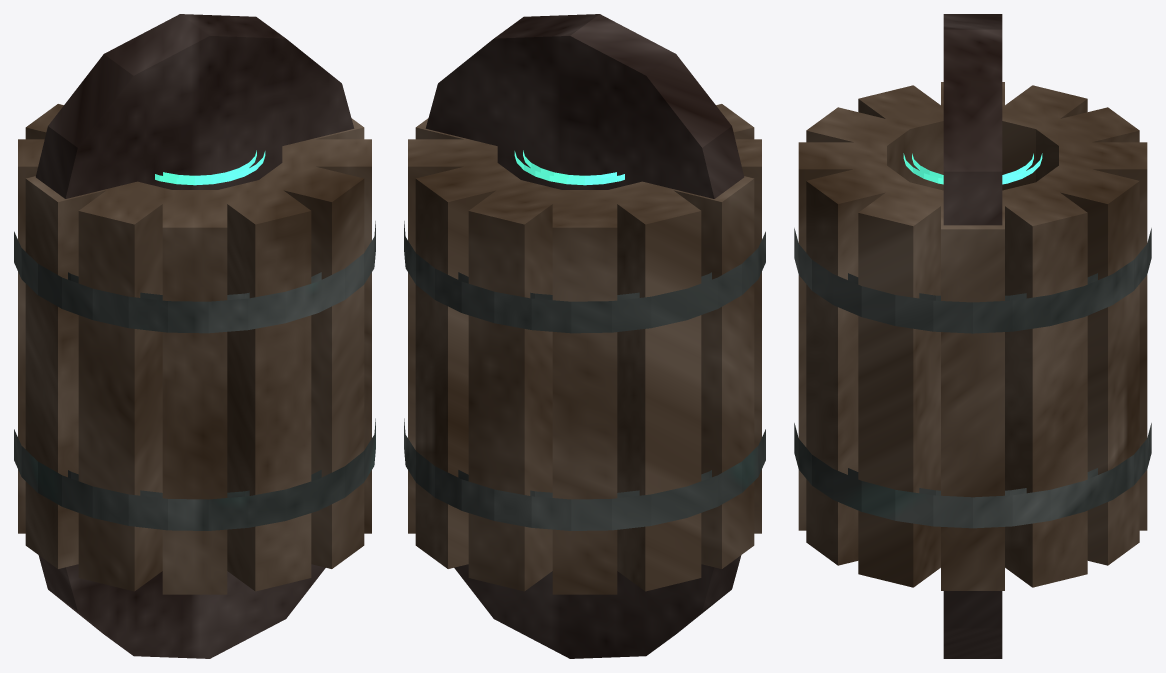
The model's file is 0784_barrel_09.glb.
3 renders of one model, left to right at view 1: azimuth 30°, elevation 25°; view 2: azimuth 150°, elevation 25°; view 3: azimuth 270°, elevation 25°, orthographic.
Visible parts, largest first — view 1: wood, wood_dark, iron, glow; view 2: wood, wood_dark, iron, glow; view 3: wood, iron, wood_dark, glow.
Part boxes in pixels (box(x1,y1,x2,y2)): wood: box(18, 104, 371, 594); wood_dark: box(35, 14, 354, 658); iron: box(14, 221, 375, 530); glow: box(155, 150, 265, 185); wood: box(408, 104, 761, 594); wood_dark: box(425, 14, 744, 658); iron: box(404, 221, 765, 530); glow: box(514, 150, 624, 185); wood: box(798, 82, 1147, 590); iron: box(794, 228, 1151, 528); wood_dark: box(943, 14, 1002, 658); glow: box(903, 153, 1042, 184).
Bounding box in the file's own units: 0.7293 × 1.38 × 0.7293.
Materials: 5 (5 with a texture image).
